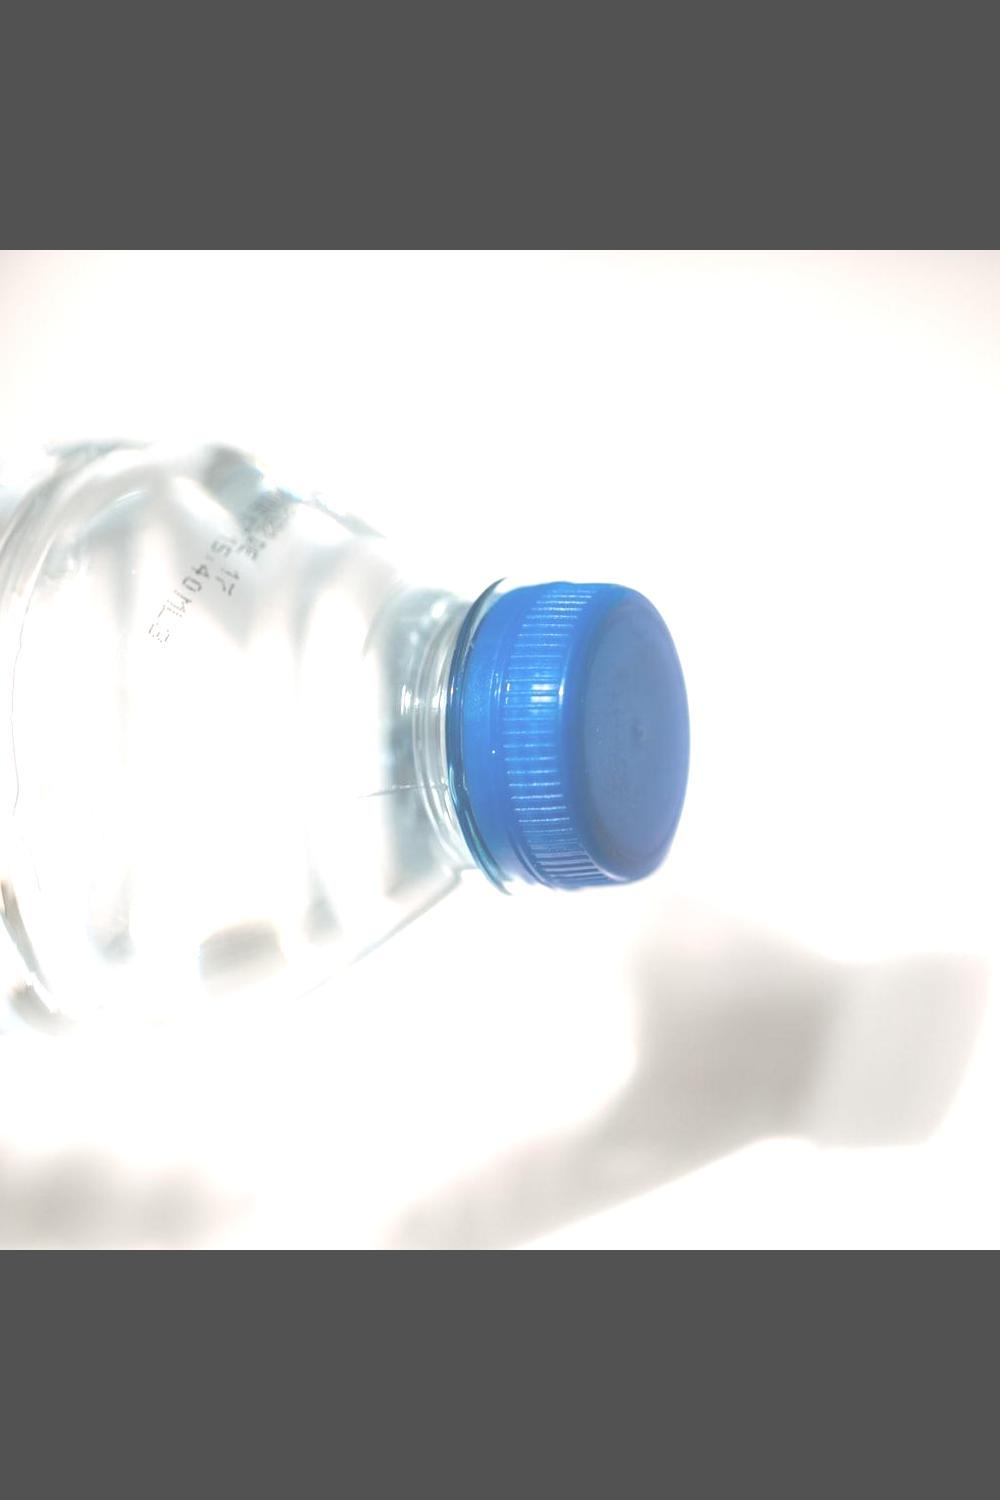bottle: (0, 394, 717, 1077)
